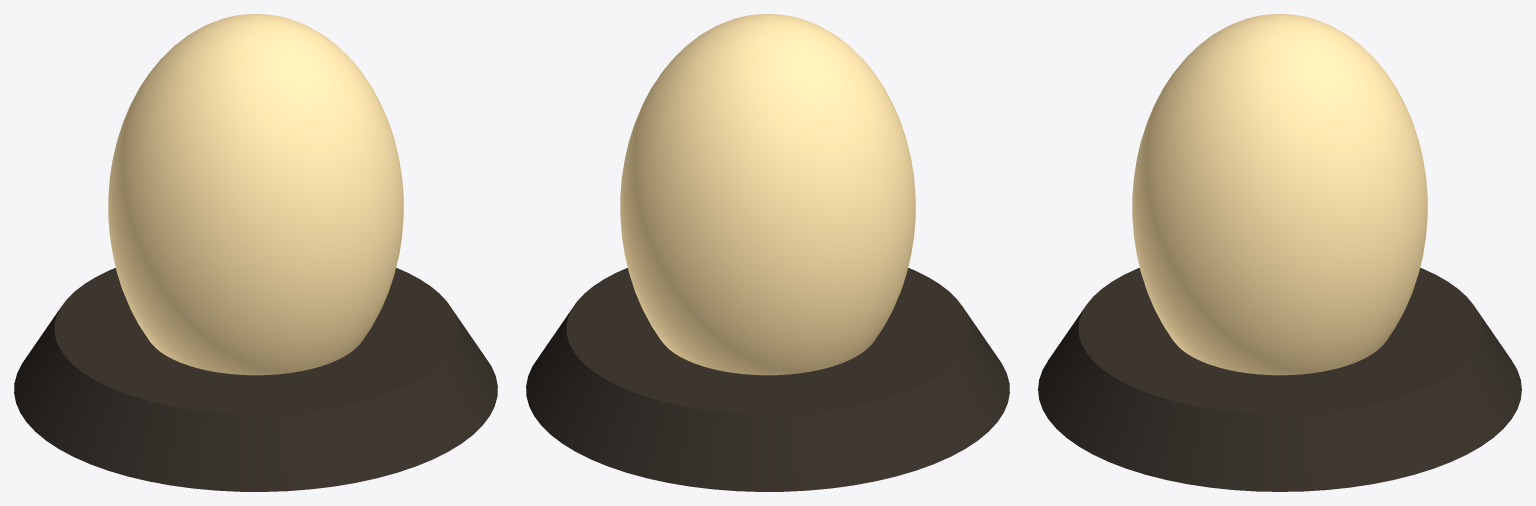
The model's file is tyrant_egg.glb.
3 renders of one model, left to right at view 1: azimuth 30°, elevation 25°; view 2: azimuth 150°, elevation 25°; view 3: azimuth 270°, elevation 25°, orthographic.
Visible parts, largest first — view 1: Shell, Nest; view 2: Shell, Nest; view 3: Shell, Nest.
Boxes of the visible parts, left/top/right/bottom form: Shell: left=108, top=14, right=403, bottom=375; Nest: left=14, top=267, right=497, bottom=491; Shell: left=620, top=14, right=915, bottom=375; Nest: left=526, top=267, right=1009, bottom=491; Shell: left=1132, top=14, right=1427, bottom=375; Nest: left=1038, top=268, right=1521, bottom=491.
Bounding box in the file's own units: 36.1 × 30.08 × 36.1.
